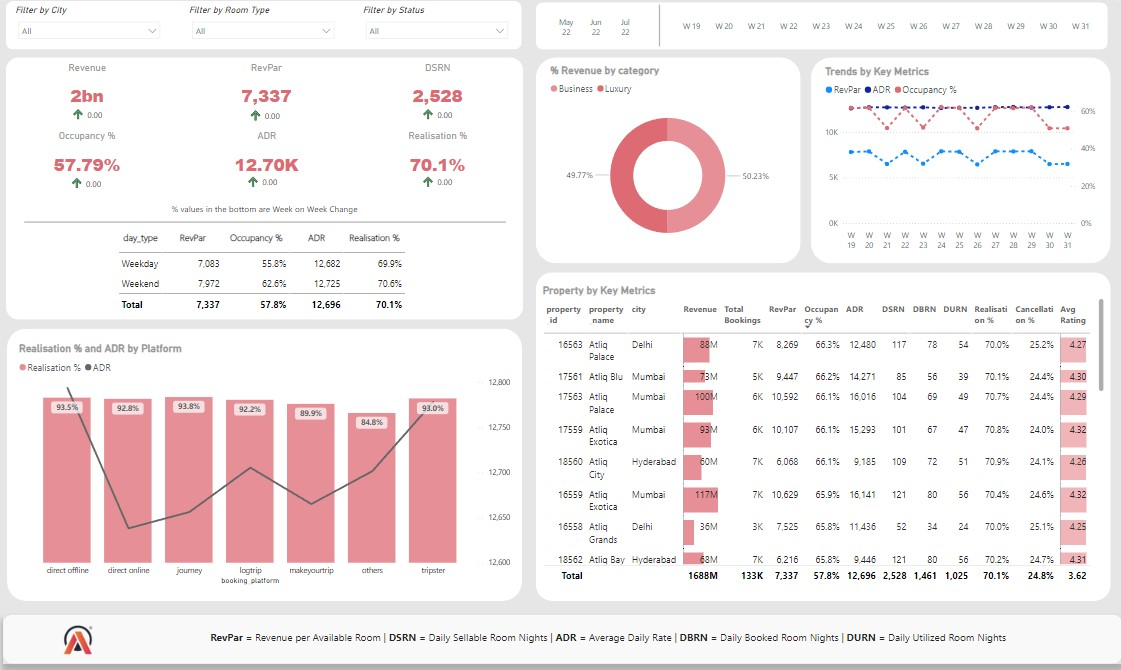

Layout of this report page (visuals, bound fields, positions):
{"tool":"powerbi","page":{"name":"Homepage","canvas":[1800,1100],"ordinal":0},"visuals":[{"type":"group","id":"g1","title":"Group 3","box":[15,0,825.6,77.8],"z":0},{"type":"shape","box":[1302,90,480,330],"z":0,"group":"g6"},{"type":"shape","box":[862,434,920,526],"z":0},{"type":"shape","box":[862.1,2,915.4,76],"z":1000,"group":"g3"},{"type":"shape","box":[14,90,828,420],"z":1000,"group":"g4"},{"type":"shape","box":[10,982,1790,78],"z":1000},{"type":"shape","box":[15,0,825.6,77.8],"z":2000,"group":"g1"},{"type":"slicer","title":"Filter by Month","fields":{"Values":["dim_date.mmm yy"]},"box":[862,6.5,189.9,70.5],"z":2000,"group":"g3"},{"type":"shape","box":[862,90,424,330],"z":2000,"group":"g5"},{"type":"image","box":[68,994,124,56],"z":2000},{"type":"tableEx","title":"Property by Key Metrics","fields":{"Values":["dim_hotels.property_id","dim_hotels.property_name","dim_hotels.city","key_measures (2).Revenue","key_measures (2).Total Bookings","key_measures (2).RevPar","key_measures (2).Occupancy %","key_measures (2).ADR","key_measures (2).DSRN","key_measures (2).DBRN","key_measures (2).DURN","key_measures (2).Realisation %"]},"box":[868,452.1,908,487.7],"z":3000},{"type":"shape","box":[15.7,524,824,436],"z":3000,"group":"g2"},{"type":"textbox","box":[230,1002,1496,38],"z":3000},{"type":"slicer","title":"Filter by City","fields":{"Values":["dim_hotels.city"]},"box":[25.4,5.8,247.1,66.9],"z":4000,"group":"g7"},{"type":"card","title":"Revenue","fields":{"Values":["key_measures (2).Revenue"]},"box":[38.4,98.9,212.2,94.9],"z":4000,"group":"g4"},{"type":"group","id":"g2","title":"Group 4","box":[15.7,524,824,436],"z":4000},{"type":"group","id":"g3","title":"Group 5","box":[862,2,920,76],"z":5000},{"type":"slicer","title":"Filter by Room Type","fields":{"Values":["dim_rooms.room_class"]},"box":[303.1,5.4,247.6,67],"z":5000,"group":"g7"},{"type":"donutChart","title":"% Revenue by category","fields":{"Category":["dim_hotels.category"],"Y":["key_measures (2).Occupancy %"]},"box":[880.5,101,386.8,307.6],"z":5000,"group":"g5"},{"type":"slicer","title":"Filter by Status","fields":{"Values":["fact_bookings.booking_status"]},"box":[581.1,5.4,247.6,67],"z":6000,"group":"g7"},{"type":"card","title":"RevPar","fields":{"Values":["key_measures (2).RevPar"]},"box":[326.5,98.9,210,94.9],"z":6000,"group":"g4"},{"type":"group","id":"g4","title":"Group 7","box":[14,90,828,420],"z":7000},{"type":"card","title":"DSRN","fields":{"Values":["key_measures (2).DSRN"]},"box":[599.6,97.8,210,96.1],"z":7000,"group":"g4"},{"type":"slicer","title":"Week","fields":{"Values":["dim_date.w_week_no"]},"box":[1059.1,6.5,722.9,69.3],"z":8000,"group":"g3"},{"type":"group","id":"g5","title":"Group 8","box":[862,90,424,330],"z":8000},{"type":"card","title":"Realisation %","fields":{"Values":["key_measures (2).Realisation %"]},"box":[599.6,205.6,210,100.7],"z":8000,"group":"g4"},{"type":"group","id":"g6","title":"Group 9","box":[1302,90,480,330],"z":9000},{"type":"card","title":"ADR","fields":{"Values":["key_measures (2).ADR"]},"box":[326,206,210.9,99.9],"z":9000,"group":"g4"},{"type":"group","id":"g7","title":"Group 2","box":[25.4,5.4,802.3,67.3],"z":10000,"group":"g1"},{"type":"tableEx","fields":{"Values":["key_measures (2).Revenue WoW Change %"]},"box":[670,150.7,76,54.6],"z":10000,"group":"g4"},{"type":"lineClusteredColumnComboChart","title":"Realisation % and ADR by Platform","fields":{"Category":["fact_bookings.booking_platform"],"Y":["key_measures (2).Realisation %"],"Y2":["key_measures (2).ADR"]},"box":[29.6,545.5,796.3,393],"z":10000,"group":"g2"},{"type":"card","title":"Occupancy %","fields":{"Values":["key_measures (2).Occupancy %"]},"box":[38.4,206,212.1,99.9],"z":11000,"group":"g4"},{"type":"tableEx","fields":{"Values":["key_measures (2).Revenue WoW Change %"]},"box":[393.3,151.1,76,54.2],"z":12000,"group":"g4"},{"type":"shape","box":[1020.7,5.9,80,66.5],"z":13000,"group":"g3"},{"type":"tableEx","fields":{"Values":["key_measures (2).Revenue WoW Change %"]},"box":[110,150.7,76,54.6],"z":13000,"group":"g4"},{"type":"tableEx","fields":{"Values":["key_measures (2).Revenue WoW Change %"]},"box":[669.1,258.8,76,54.6],"z":14000,"group":"g4"},{"type":"lineChart","title":"Trends by Key Metrics","fields":{"Category":["dim_date.mmm yy","dim_date.w_week_no"],"Y":["key_measures (2).RevPar","key_measures (2).ADR"],"Y2":["key_measures (2).Occupancy %"]},"box":[1320.8,102.9,442.5,304.2],"z":15000,"group":"g6"},{"type":"tableEx","fields":{"Values":["dim_date.day_type","key_measures (2).RevPar","key_measures (2).Occupancy %","key_measures (2).ADR","key_measures (2).Realisation %"]},"box":[187,356,482,153.9],"z":16000,"group":"g8"},{"type":"tableEx","fields":{"Values":["key_measures (2).Revenue WoW Change %"]},"box":[390,258.8,76,54.9],"z":17000,"group":"g4"},{"type":"tableEx","fields":{"Values":["key_measures (2).Revenue WoW Change %"]},"box":[108,260,76,54.6],"z":19000,"group":"g4"},{"type":"group","id":"g8","title":"Group 1","box":[14,318.5,828,191.5],"z":21000,"group":"g4"},{"type":"textbox","box":[14,318.5,828,34.7],"z":26000,"group":"g8"},{"type":"shape","box":[43,341.7,770,23.5],"z":27000,"group":"g8"}]}

Visuals, with their boxes in screenshot pixels (x1, y1, x2, y2), scaled from the page's 1800x1100 canvas onto the 1121x670 screenshot:
"Group 3" group: rect(9, 0, 524, 47)
shape: rect(811, 55, 1110, 256)
shape: rect(537, 264, 1110, 585)
shape: rect(537, 1, 1107, 48)
shape: rect(9, 55, 524, 311)
shape: rect(6, 598, 1120, 646)
shape: rect(9, 0, 524, 47)
"Filter by Month" slicer: rect(537, 4, 655, 47)
shape: rect(537, 55, 801, 256)
image: rect(42, 605, 120, 640)
"Property by Key Metrics" tableEx: rect(541, 275, 1106, 572)
shape: rect(10, 319, 523, 585)
textbox: rect(143, 610, 1075, 633)
"Filter by City" slicer: rect(16, 4, 170, 44)
"Revenue" card: rect(24, 60, 156, 118)
"Group 4" group: rect(10, 319, 523, 585)
"Group 5" group: rect(537, 1, 1110, 48)
"Filter by Room Type" slicer: rect(189, 3, 343, 44)
"% Revenue by category" donutChart: rect(548, 62, 789, 249)
"Filter by Status" slicer: rect(362, 3, 516, 44)
"RevPar" card: rect(203, 60, 334, 118)
"Group 7" group: rect(9, 55, 524, 311)
"DSRN" card: rect(373, 60, 504, 118)
"Week" slicer: rect(660, 4, 1110, 46)
"Group 8" group: rect(537, 55, 801, 256)
"Realisation %" card: rect(373, 125, 504, 187)
"Group 9" group: rect(811, 55, 1110, 256)
"ADR" card: rect(203, 125, 334, 186)
"Group 2" group: rect(16, 3, 515, 44)
tableEx - key_measures (2).Revenue WoW Change %: rect(417, 92, 465, 125)
"Realisation % and ADR by Platform" lineClusteredColumnComboChart: rect(18, 332, 514, 572)
"Occupancy %" card: rect(24, 125, 156, 186)
tableEx - key_measures (2).Revenue WoW Change %: rect(245, 92, 292, 125)
shape: rect(636, 4, 685, 44)
tableEx - key_measures (2).Revenue WoW Change %: rect(69, 92, 116, 125)
tableEx - key_measures (2).Revenue WoW Change %: rect(417, 158, 464, 191)
"Trends by Key Metrics" lineChart: rect(823, 63, 1098, 248)
tableEx - dim_date.day_type x key_measures (2).RevPar: rect(116, 217, 417, 311)
tableEx - key_measures (2).Revenue WoW Change %: rect(243, 158, 290, 191)
tableEx - key_measures (2).Revenue WoW Change %: rect(67, 158, 115, 192)
"Group 1" group: rect(9, 194, 524, 311)
textbox: rect(9, 194, 524, 215)
shape: rect(27, 208, 506, 222)
